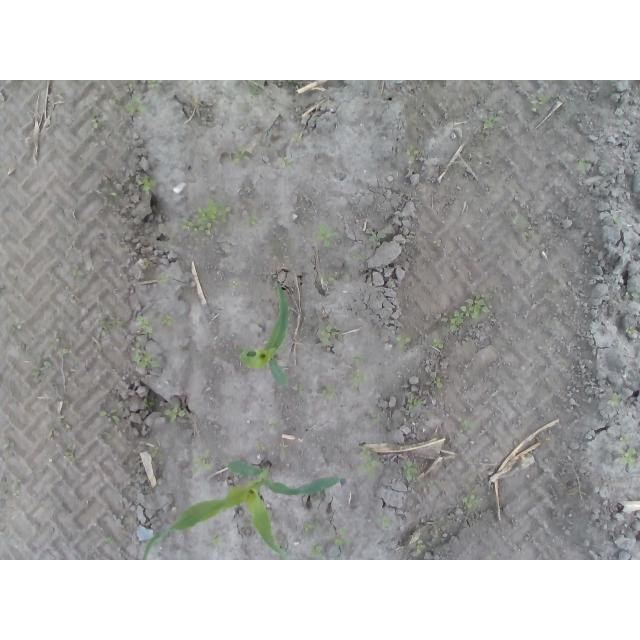Maize: (144, 458, 341, 556), (238, 284, 290, 388)
Weeds: (176, 199, 232, 237), (447, 291, 491, 334), (132, 342, 161, 368), (191, 446, 213, 476), (351, 351, 369, 385), (359, 446, 379, 475), (318, 322, 341, 347), (317, 222, 338, 248), (135, 314, 154, 337), (162, 405, 186, 423), (334, 526, 354, 547), (126, 95, 146, 116), (136, 173, 156, 192), (30, 357, 43, 385), (396, 334, 414, 354), (402, 462, 419, 482), (98, 409, 121, 423), (481, 115, 504, 129), (620, 446, 636, 465), (308, 542, 325, 559), (96, 317, 112, 335), (66, 263, 85, 278), (462, 494, 482, 508), (462, 415, 479, 431), (378, 512, 393, 529), (233, 148, 250, 162), (607, 393, 622, 408), (368, 233, 385, 246), (405, 398, 423, 410), (303, 521, 321, 533), (431, 335, 446, 349), (324, 384, 337, 400), (318, 271, 338, 281), (90, 116, 102, 132), (160, 314, 176, 326), (405, 144, 419, 157), (294, 383, 305, 398), (432, 378, 445, 390), (48, 427, 60, 440), (512, 216, 529, 225), (246, 214, 258, 226), (416, 539, 426, 553), (150, 447, 162, 458), (65, 450, 75, 463), (577, 158, 587, 171), (351, 255, 369, 262), (211, 535, 222, 546), (284, 157, 295, 168), (537, 96, 551, 104), (147, 80, 161, 88), (145, 398, 156, 408), (159, 274, 170, 284), (102, 536, 115, 544), (431, 240, 441, 249), (613, 216, 622, 225), (624, 326, 633, 335), (144, 259, 152, 269), (256, 442, 265, 450), (109, 192, 120, 197)
